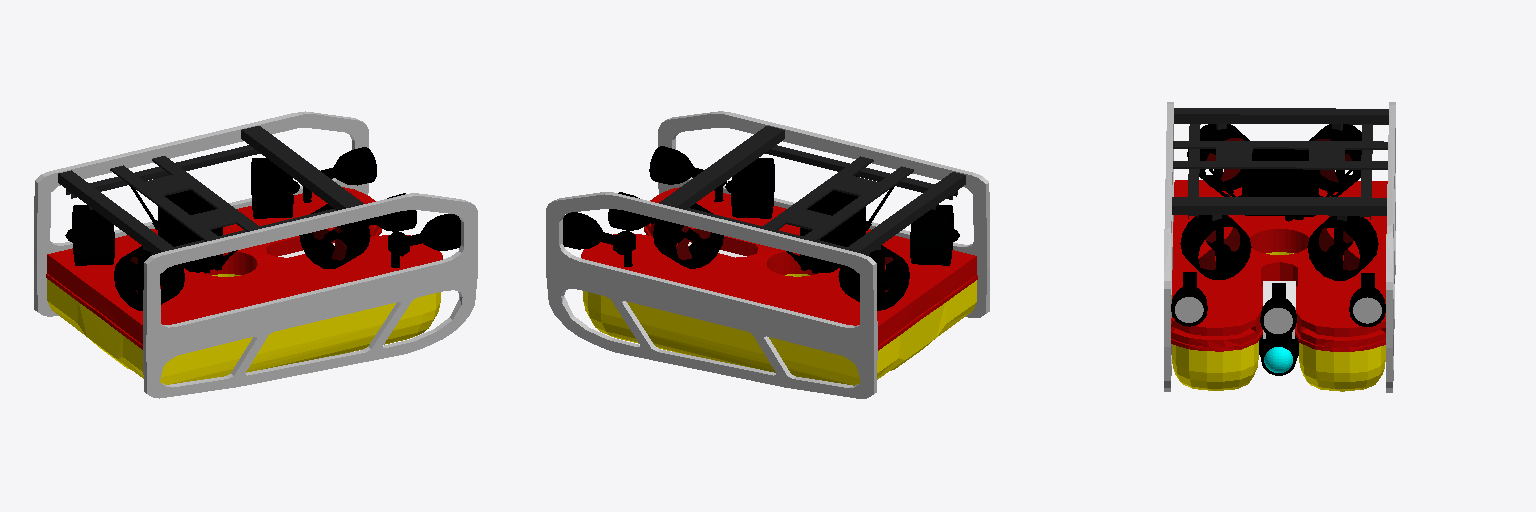
Rendered from frame.obj.
3 renders of one model, left to right at view 1: azimuth 30°, elevation 25°; view 2: azimuth 150°, elevation 25°; view 3: azimuth 270°, elevation 25°, orthographic.
Visible parts, largest first — view 1: frame_left_obj5.001, lower_hull_obj11.001, upper_hull_obj10.001, frame_obj6.001, frame_right_obj4.001, battery_obj13.001, front_right_duct_obj15.001, rear_right_duct_obj20.001, rear_left_duct_obj18.001, front_left_duct_obj16.001, left_light_obj9.001, right_light_obj8.001 (+1 smaller); view 2: frame_right_obj4.001, lower_hull_obj11.001, upper_hull_obj10.001, frame_obj6.001, frame_left_obj5.001, battery_obj13.001, front_left_duct_obj16.001, rear_left_duct_obj18.001, rear_right_duct_obj20.001, front_right_duct_obj15.001, right_light_obj8.001, left_light_obj9.001 (+1 smaller); view 3: lower_hull_obj11.001, frame_obj6.001, upper_hull_obj10.001, battery_obj13.001, front_right_duct_obj15.001, front_left_duct_obj16.001, frame_right_obj4.001, frame_left_obj5.001, rear_right_duct_obj20.001, rear_left_duct_obj18.001, left_light_obj9.001, right_light_obj8.001 (+8 smaller).
Boxes of the visible parts, <box> form: frame_left_obj5.001: <box>143,193,477,398</box>; lower_hull_obj11.001: <box>46,187,442,349</box>; upper_hull_obj10.001: <box>47,274,440,384</box>; frame_obj6.001: <box>58,126,363,255</box>; frame_right_obj4.001: <box>34,111,368,316</box>; battery_obj13.001: <box>129,185,237,273</box>; front_right_duct_obj15.001: <box>251,158,299,218</box>; rear_right_duct_obj20.001: <box>65,205,114,265</box>; rear_left_duct_obj18.001: <box>114,246,184,310</box>; front_left_duct_obj16.001: <box>299,204,370,268</box>; left_light_obj9.001: <box>388,214,460,267</box>; right_light_obj8.001: <box>300,147,376,202</box>; frame_right_obj4.001: <box>546,192,877,398</box>; lower_hull_obj11.001: <box>581,187,977,350</box>; upper_hull_obj10.001: <box>583,274,976,385</box>; frame_obj6.001: <box>659,126,965,256</box>; frame_left_obj5.001: <box>658,111,989,317</box>; battery_obj13.001: <box>786,176,894,273</box>; front_left_duct_obj16.001: <box>725,158,774,218</box>; rear_left_duct_obj18.001: <box>910,204,959,265</box>; rear_right_duct_obj20.001: <box>838,245,909,310</box>; front_right_duct_obj15.001: <box>653,203,723,268</box>; right_light_obj8.001: <box>563,212,635,266</box>; left_light_obj9.001: <box>649,146,726,201</box>; lower_hull_obj11.001: <box>1171,180,1387,351</box>; frame_obj6.001: <box>1172,108,1388,221</box>; upper_hull_obj10.001: <box>1172,252,1385,391</box>; battery_obj13.001: <box>1199,149,1360,221</box>; front_right_duct_obj15.001: <box>1307,216,1378,280</box>; front_left_duct_obj16.001: <box>1180,215,1251,279</box>; frame_right_obj4.001: <box>1386,102,1395,392</box>; frame_left_obj5.001: <box>1164,102,1173,391</box>; rear_right_duct_obj20.001: <box>1309,124,1361,191</box>; rear_left_duct_obj18.001: <box>1187,124,1249,190</box>; left_light_obj9.001: <box>1171,272,1207,326</box>; right_light_obj8.001: <box>1349,273,1385,326</box>.
Bounding box in the file's own units: 0.6534 × 0.295 × 0.3957.